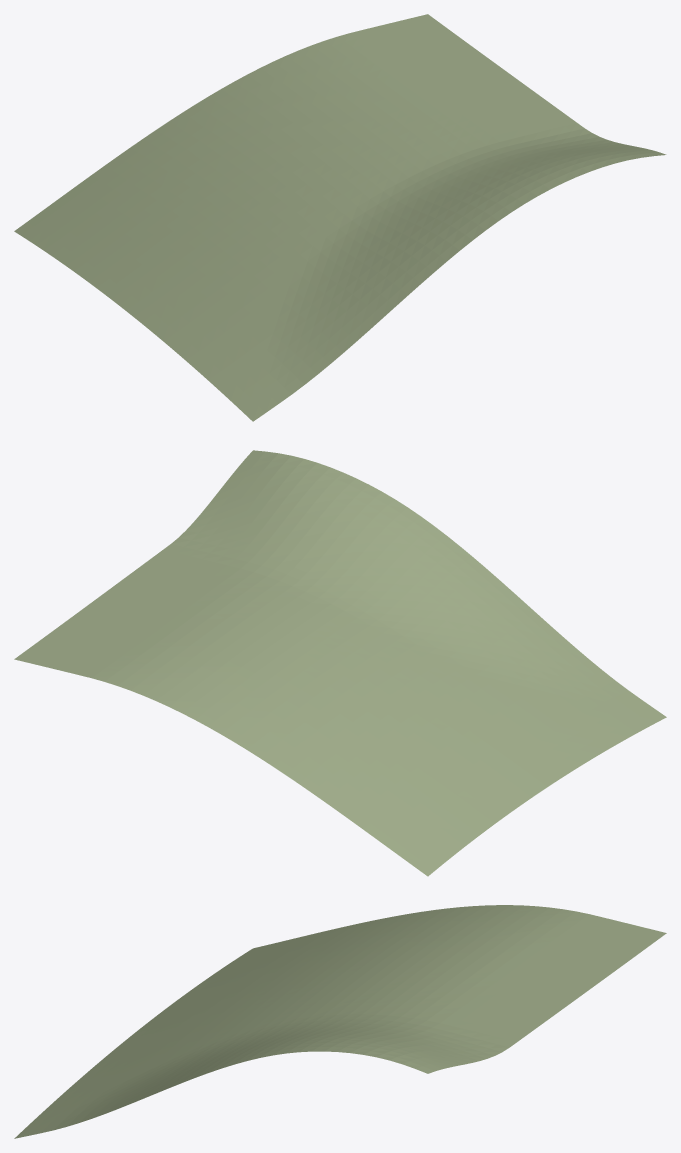
File: desert-24-20.glb
3 views of the same model, one above another, from view 1: azimuth 30°, elevation 25°; view 2: azimuth 150°, elevation 25°; view 3: azimuth 330°, elevation 25° (orthographic).
Parts seen in each view (by area): view 1: desert-24-20; view 2: desert-24-20; view 3: desert-24-20.
Part boxes in pixels (box(x1,y1,x2,y2)): desert-24-20: box(14, 14, 666, 421); desert-24-20: box(14, 450, 666, 876); desert-24-20: box(14, 905, 666, 1138).
Bounding box in the file's own units: 512 × 201 × 512.
